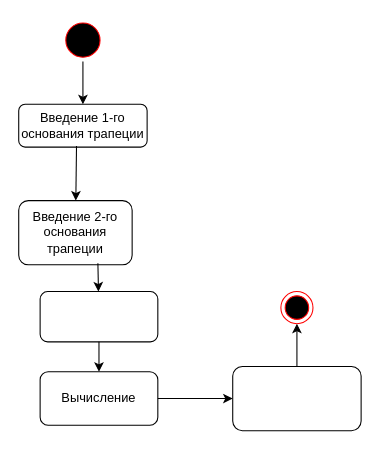
Image size: 380x449. Some labels were removed from this diagram. Each missing label, with the box of its shape:
Введение высоты трапеции: (39, 291, 158, 342)
Результат: площадь трапеции: (232, 365, 361, 431)
